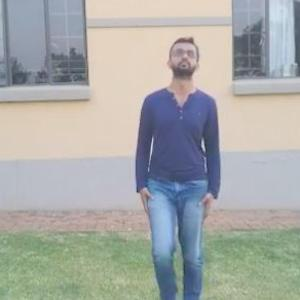follow: (132, 23, 227, 290)
